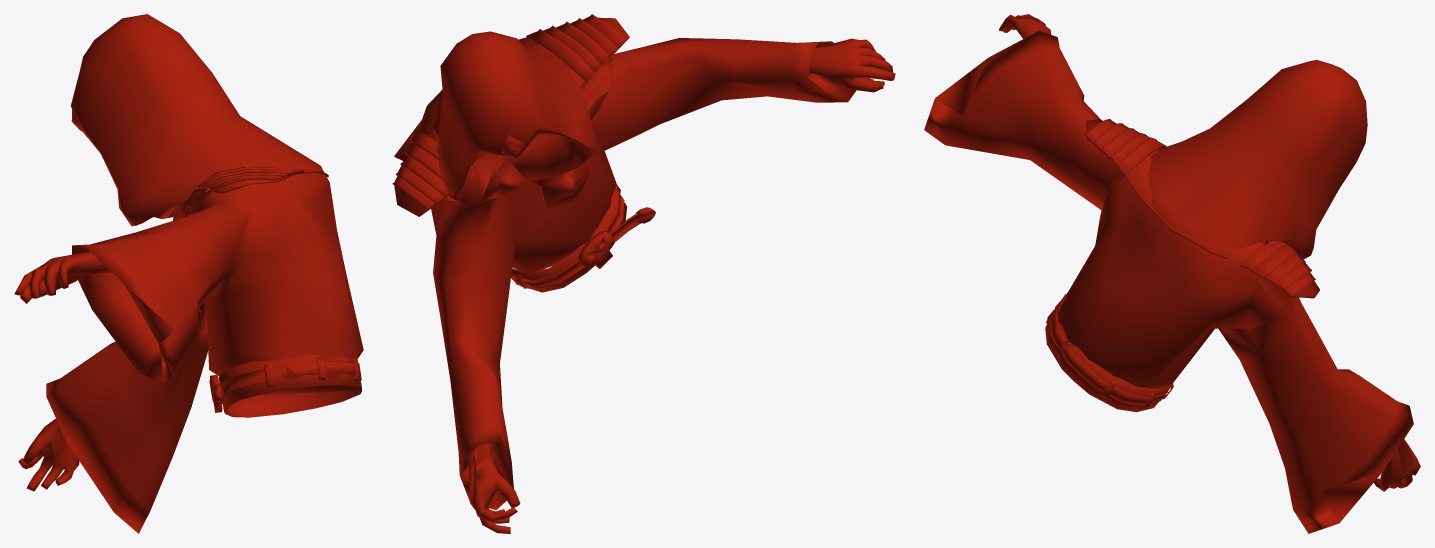
File: top_000060.obj
The picture shows the model from 3 angles, left to right: view 1: azimuth 30°, elevation 25°; view 2: azimuth 150°, elevation 25°; view 3: azimuth 270°, elevation 25°; orthographic projection. The views are drawn at different scales.
Parts seen in each view (by area): view 1: LowPoly_Warlock.000_Plane.005; view 2: LowPoly_Warlock.000_Plane.005; view 3: LowPoly_Warlock.000_Plane.005.
Boxes of the visible parts, box(x1,y1,x2,y2) form: LowPoly_Warlock.000_Plane.005: box(14, 14, 363, 533); LowPoly_Warlock.000_Plane.005: box(392, 14, 895, 533); LowPoly_Warlock.000_Plane.005: box(924, 14, 1420, 533).
Bounding box in the file's own units: 1.2 × 1.44 × 1.36.
